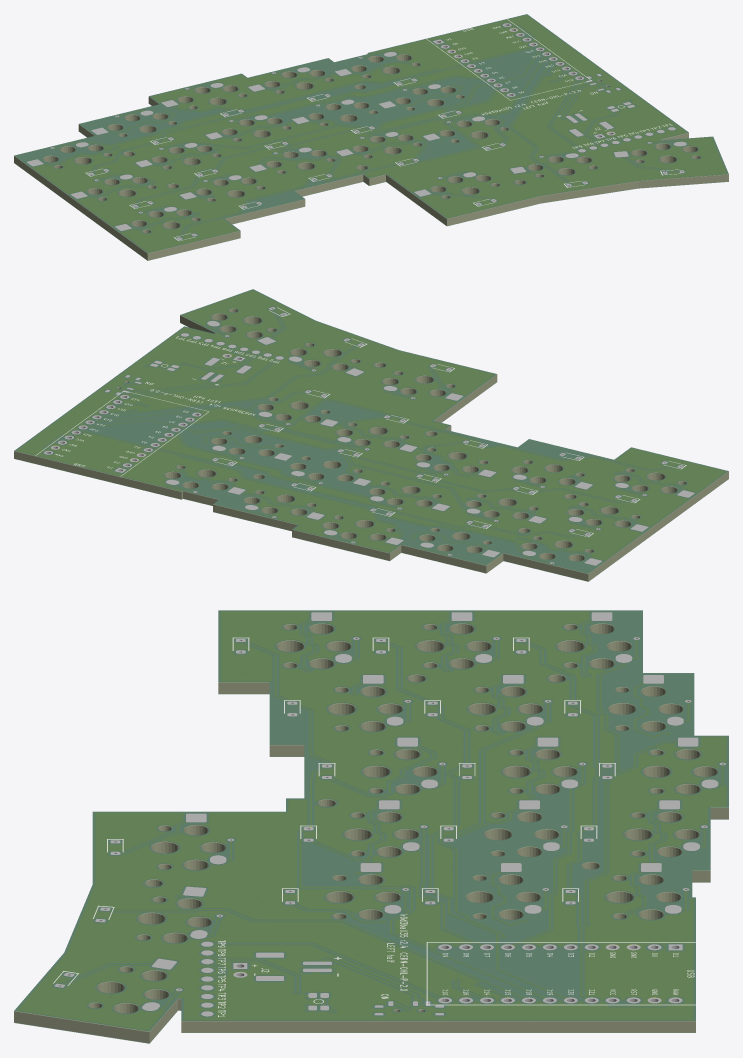
File: k0d3ball35-left.glb
3 views of the same model, one above another, from view 1: azimuth 30°, elevation 25°; view 2: azimuth 150°, elevation 25°; view 3: azimuth 270°, elevation 25° (orthographic). The views are drawn at different scales.
Visible parts, largest first — view 1: =>[0:1:1:7], =>[0:1:1:2], =>[0:1:1:9], =>[0:1:1:3], =>[0:1:1:5], =>[0:1:1:8]; view 2: =>[0:1:1:7], =>[0:1:1:2], =>[0:1:1:9], =>[0:1:1:3], =>[0:1:1:5], =>[0:1:1:8]; view 3: =>[0:1:1:7], =>[0:1:1:2], =>[0:1:1:9], =>[0:1:1:3], =>[0:1:1:5], =>[0:1:1:8].
Boxes of the visible parts, x1,y1,x2,y2 form: =>[0:1:1:7]: (14, 14, 728, 253); =>[0:1:1:2]: (34, 15, 726, 251); =>[0:1:1:9]: (14, 16, 728, 260); =>[0:1:1:3]: (27, 23, 686, 239); =>[0:1:1:5]: (85, 19, 681, 240); =>[0:1:1:8]: (14, 74, 728, 260); =>[0:1:1:7]: (14, 289, 728, 573); =>[0:1:1:2]: (17, 291, 725, 560); =>[0:1:1:9]: (14, 304, 728, 581); =>[0:1:1:3]: (44, 307, 694, 565); =>[0:1:1:5]: (35, 307, 686, 537); =>[0:1:1:8]: (14, 323, 728, 581); =>[0:1:1:7]: (14, 610, 728, 1031); =>[0:1:1:2]: (18, 612, 725, 1029); =>[0:1:1:9]: (14, 611, 728, 1043); =>[0:1:1:3]: (54, 612, 725, 1016); =>[0:1:1:5]: (53, 637, 695, 1017); =>[0:1:1:8]: (14, 694, 728, 1043).
Bounding box in the file's own units: 0.121 × 0.00166 × 0.0867.
